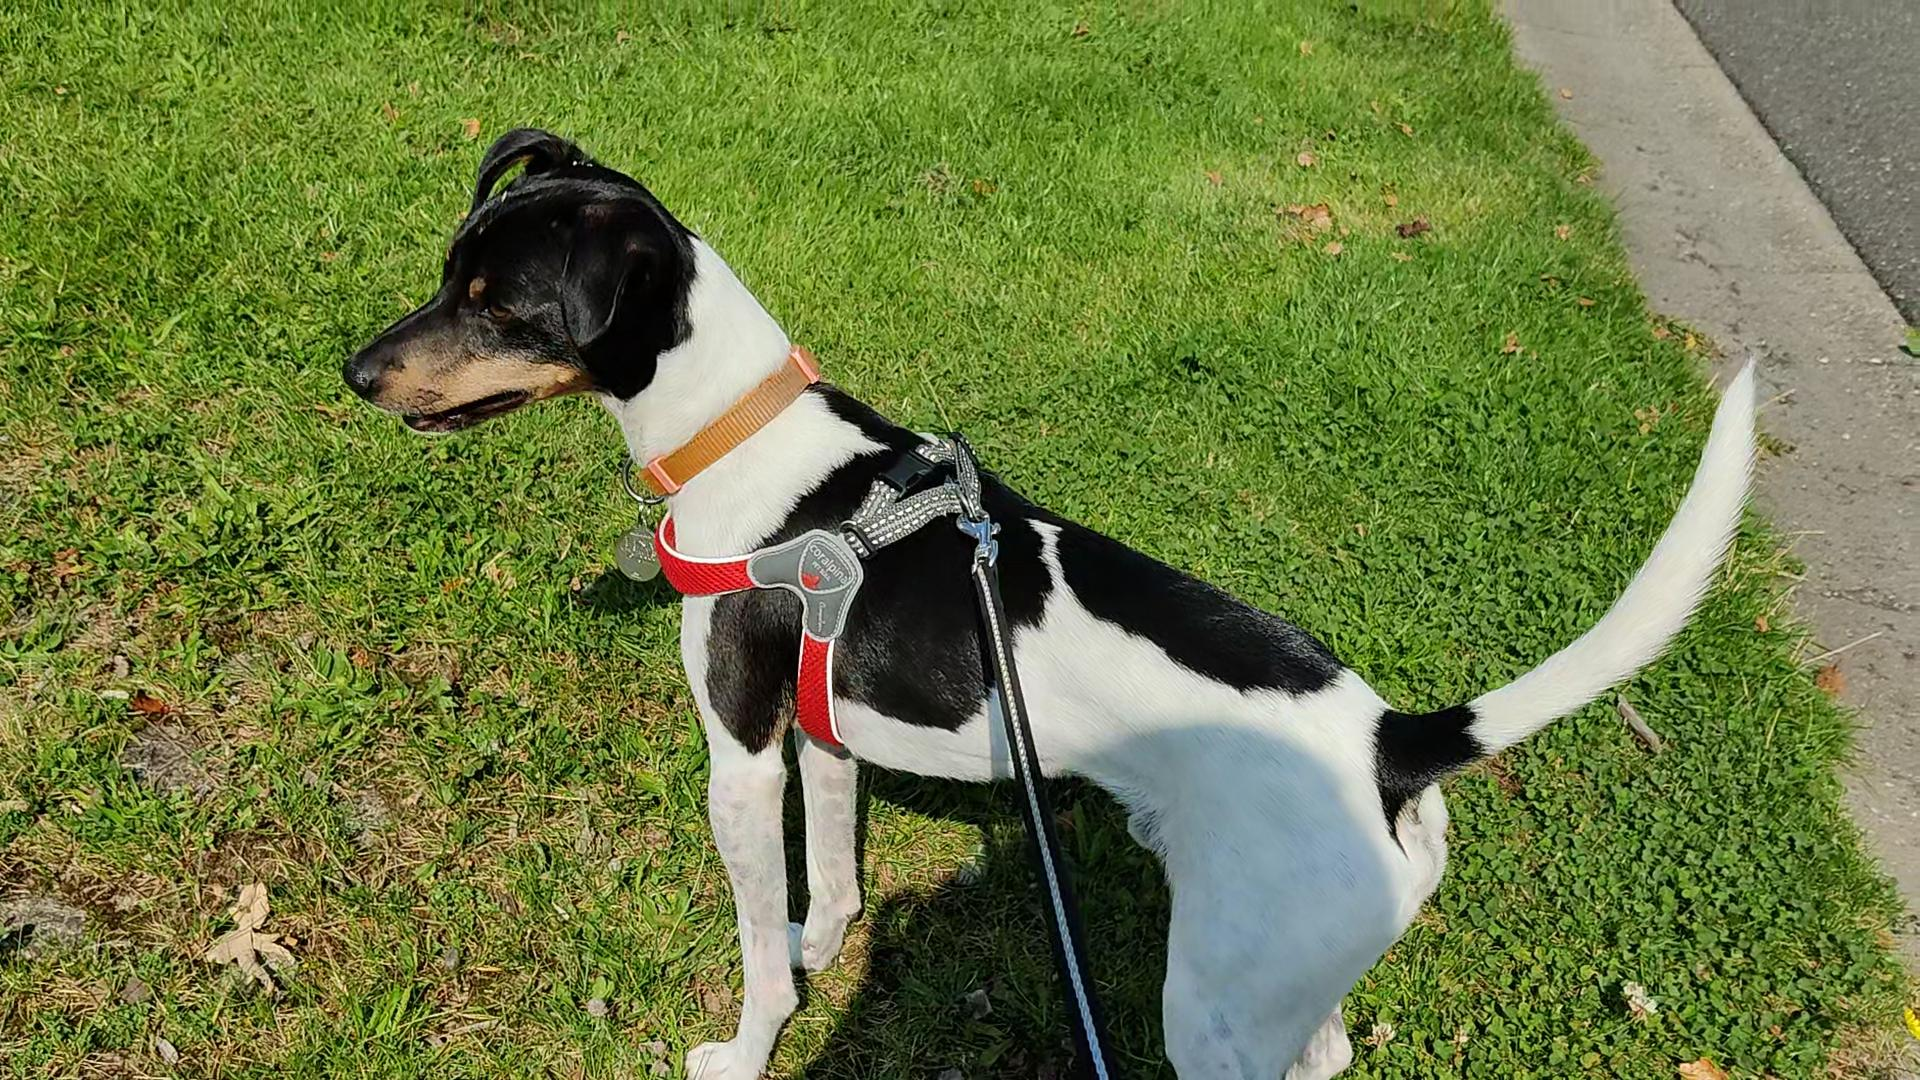Dog: (328, 120, 1780, 1079)
